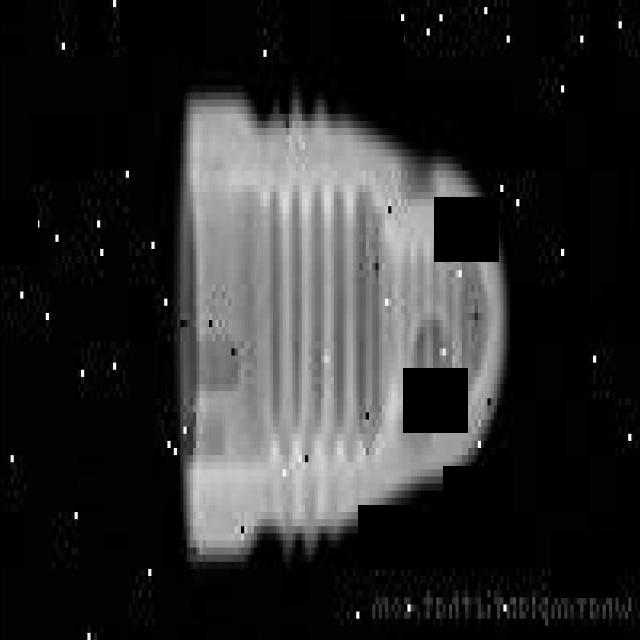Root canal obturation: (176, 85, 515, 569)
